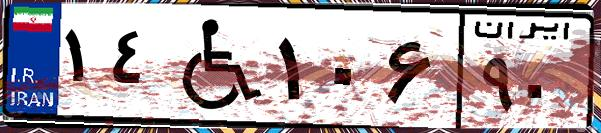0: (330, 28, 385, 110), (525, 38, 570, 115)
1: (270, 28, 330, 110), (57, 26, 110, 100)
4: (110, 28, 158, 98)
6: (385, 28, 445, 110)
9: (475, 38, 525, 113)
ژ (معلولین و جانبازان): (158, 12, 270, 120)
